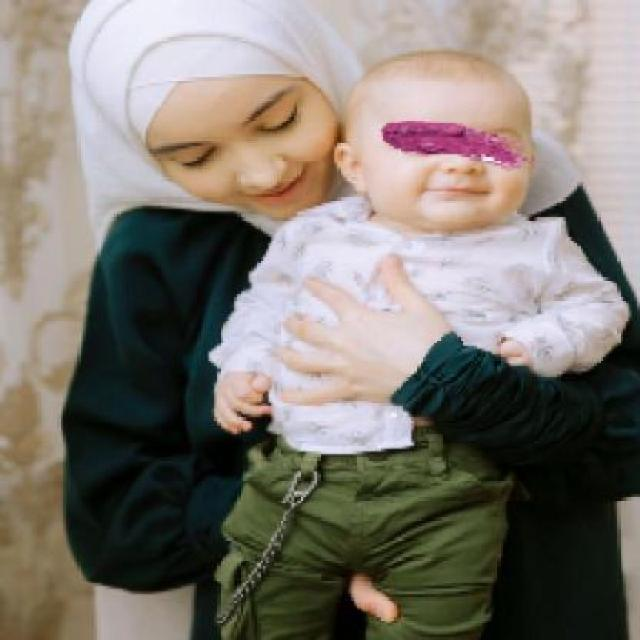child: (205, 48, 638, 638)
